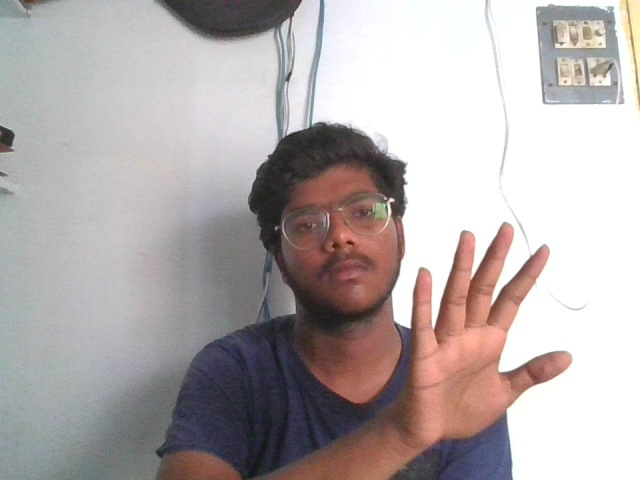Hello: (402, 218, 574, 447)
